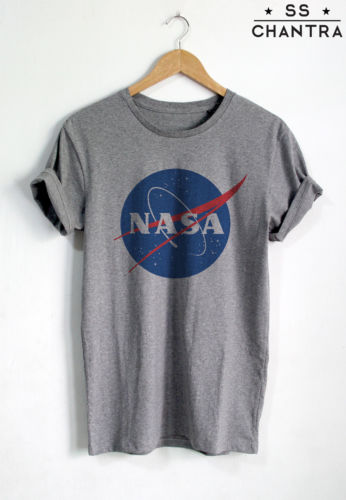NASA: (109, 170, 249, 281)
